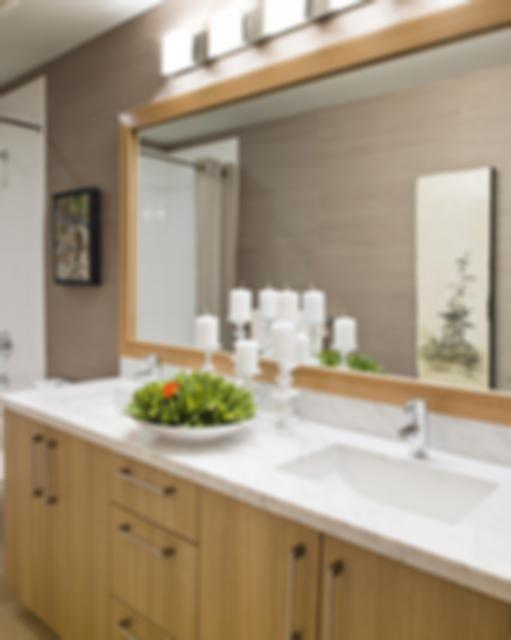Ducha: (0, 89, 50, 534)
Lavamanos: (274, 383, 500, 539), (49, 358, 192, 424)
